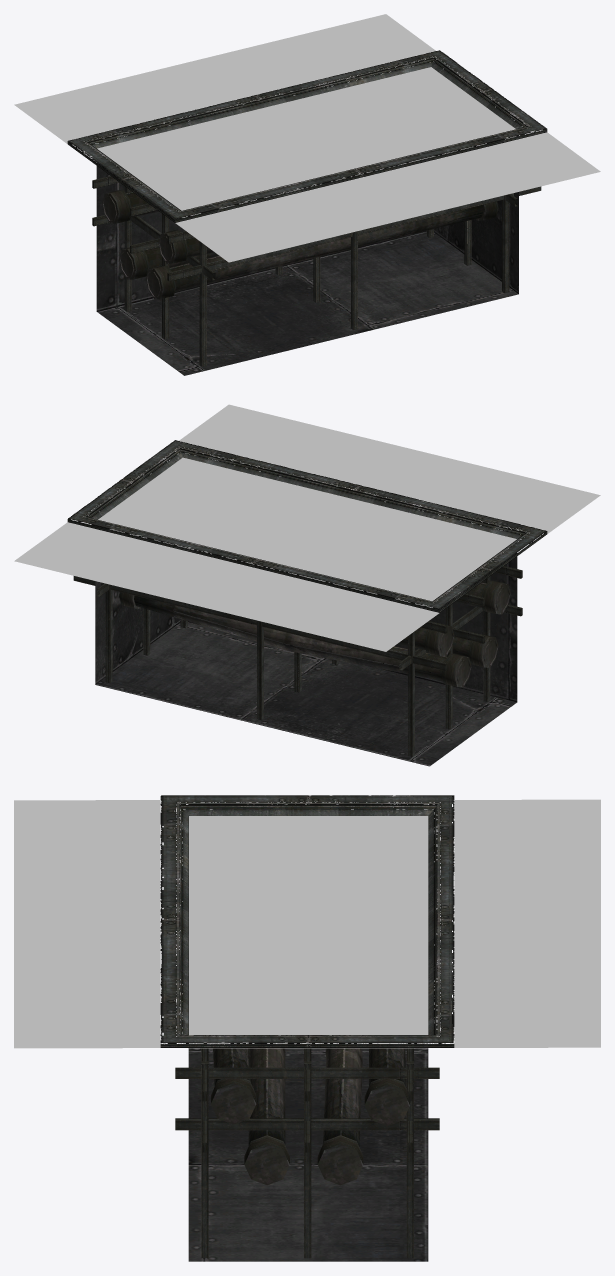
Rendered from tesla_modules_floortiles_pipes.dae.
The picture shows the model from 3 angles, top to bottom: view 1: azimuth 30°, elevation 25°; view 2: azimuth 150°, elevation 25°; view 3: azimuth 270°, elevation 25°; orthographic projection. The views are drawn at different scales.
Visible parts, largest first — view 1: polySurface3, polySurface5, polySurface14, polySurface13, polySurface9; view 2: polySurface3, polySurface5, polySurface14, polySurface13, polySurface9; view 3: polySurface3, polySurface14, polySurface13, polySurface5, polySurface9.
Part boxes in pixels (left/top/right/bottom): polySurface3: left=14, top=14, right=600, bottom=262; polySurface5: left=96, top=135, right=518, bottom=375; polySurface14: left=97, top=67, right=516, bottom=217; polySurface13: left=67, top=50, right=547, bottom=366; polySurface9: left=102, top=190, right=498, bottom=299; polySurface3: left=14, top=404, right=600, bottom=651; polySurface5: left=95, top=542, right=517, bottom=766; polySurface14: left=98, top=457, right=516, bottom=607; polySurface13: left=67, top=440, right=547, bottom=756; polySurface9: left=119, top=580, right=510, bottom=687; polySurface3: left=14, top=799, right=600, bottom=1048; polySurface14: left=189, top=816, right=428, bottom=1048; polySurface13: left=160, top=795, right=454, bottom=1258; polySurface5: left=188, top=816, right=428, bottom=1261; polySurface9: left=211, top=1048, right=409, bottom=1185.
Size of the model in its own units: 4.1 by 1.73 by 4.
